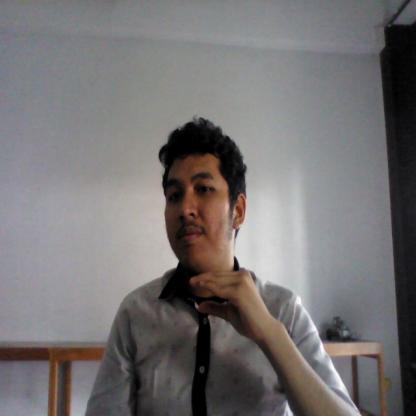Pagi: (186, 258, 280, 350)
